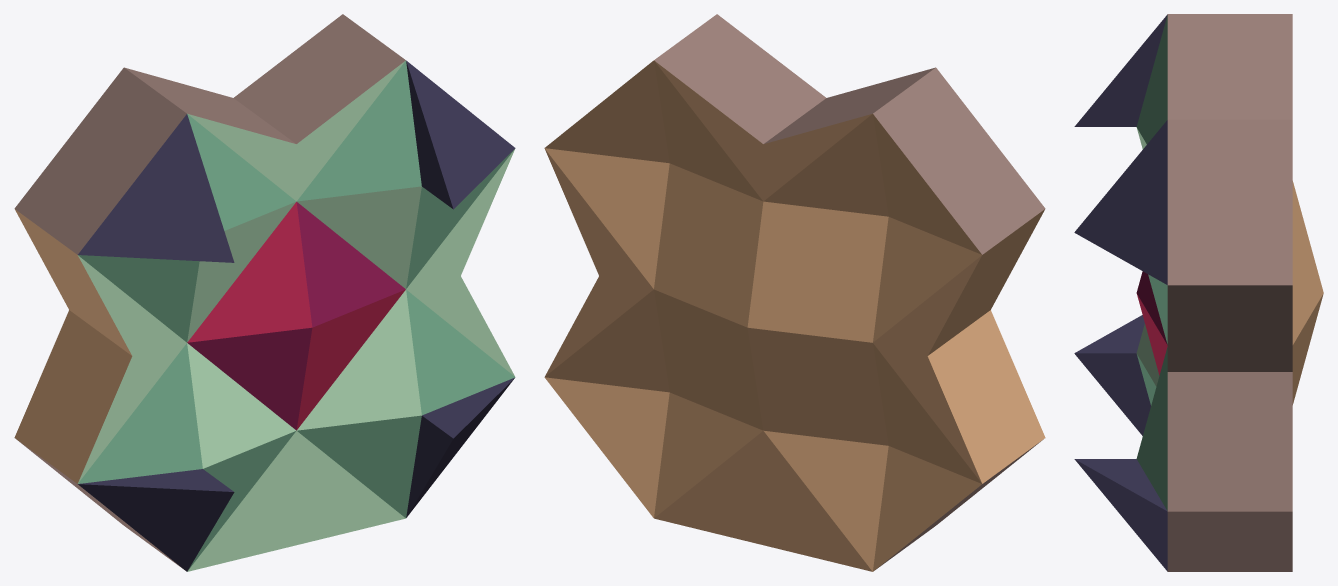
File: lv_6_gate.fbx
3 renders of one model, left to right at view 1: azimuth 30°, elevation 25°; view 2: azimuth 150°, elevation 25°; view 3: azimuth 270°, elevation 25°, orthographic.
Visible parts, largest first — view 1: Lv6BossGate; view 2: Lv6BossGate; view 3: Lv6BossGate.
Boxes of the visible parts, x1,y1,x2,y2 form: Lv6BossGate: (14, 14, 515, 571); Lv6BossGate: (544, 14, 1045, 571); Lv6BossGate: (1074, 14, 1323, 571).
Bounding box in the file's own units: 1600 × 1600 × 800.
